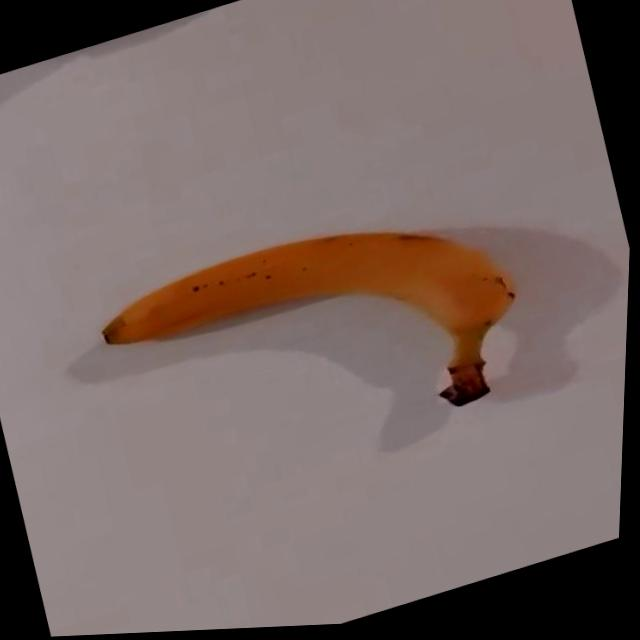Banana: (89, 182, 545, 510)
